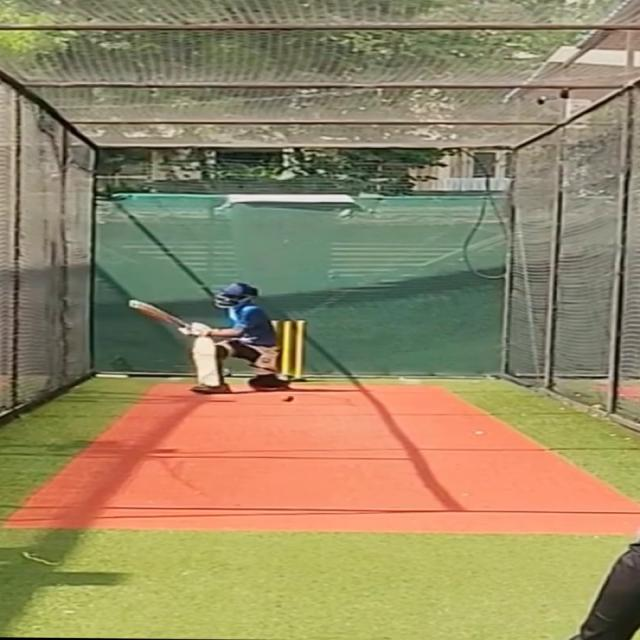ball: (282, 394, 298, 403)
stump: (278, 318, 310, 380)
